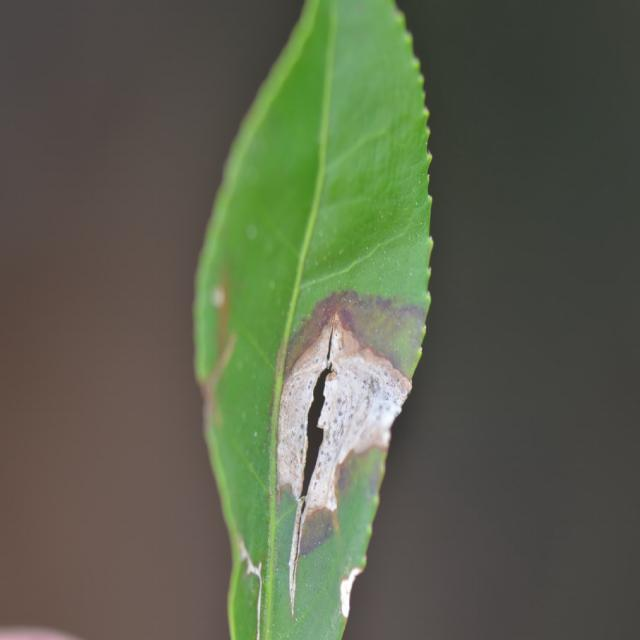Tea cloud leaf blight: (276, 288, 412, 537)
